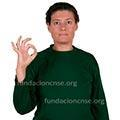O: (8, 22, 42, 74)
